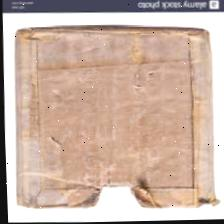cardboard: (5, 10, 224, 218)
